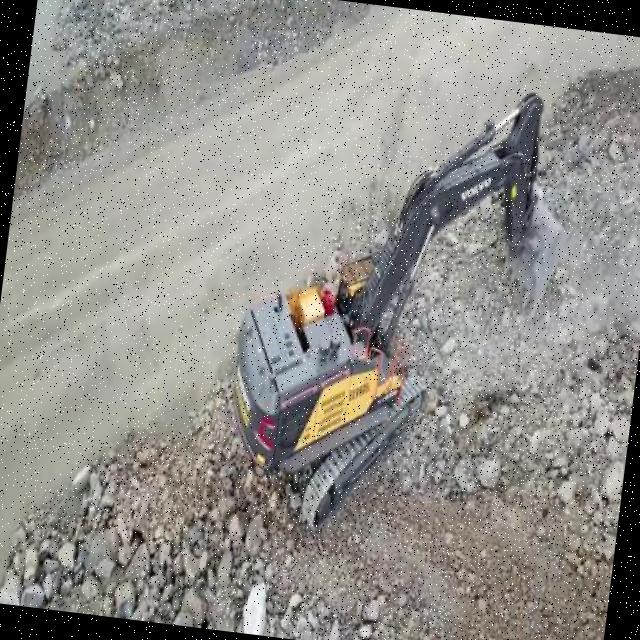Excavator: (211, 54, 581, 545)
